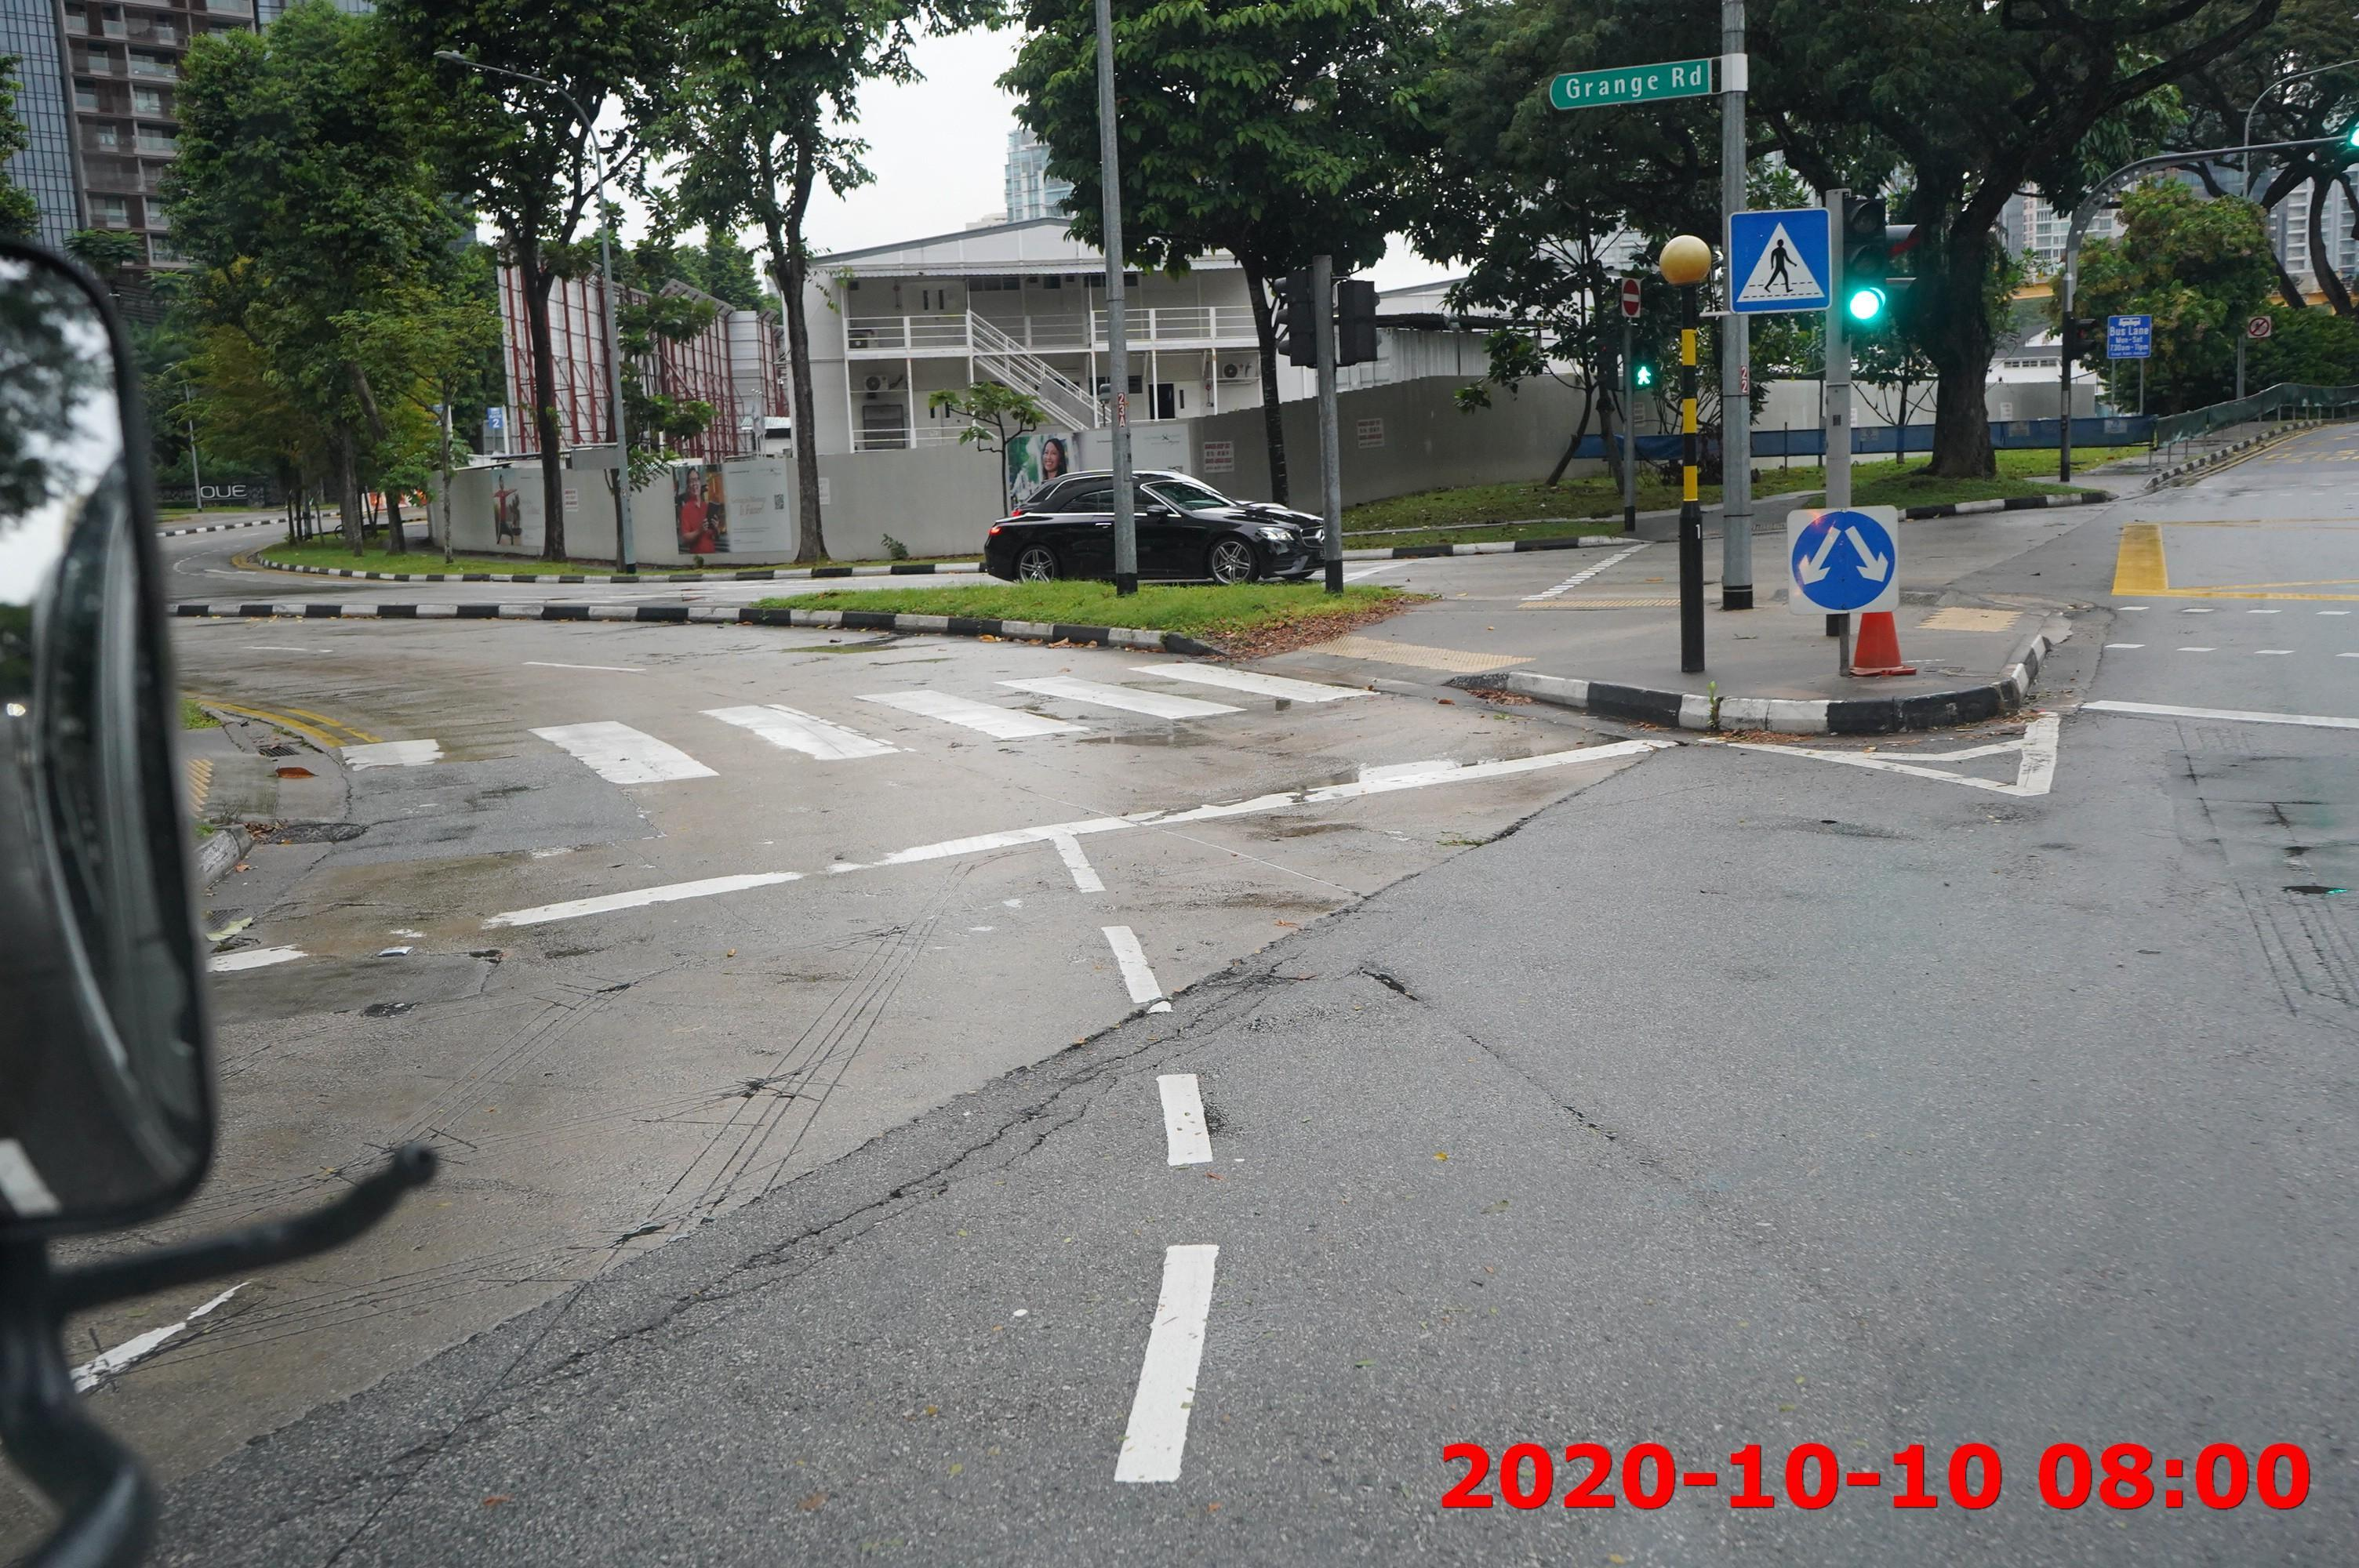peeling off premix: (1792, 807, 1906, 849), (359, 990, 422, 1029)
